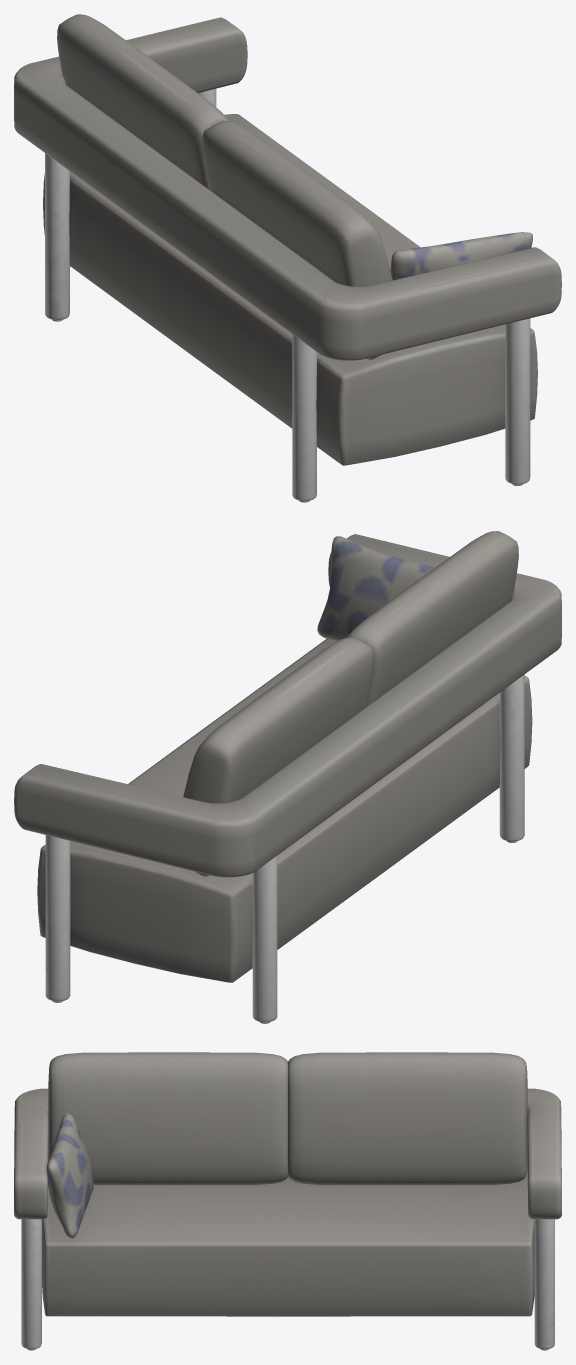
File: EE_Sofa2Seater_01.gltf
The picture shows the model from 3 angles, top to bottom: view 1: azimuth 30°, elevation 25°; view 2: azimuth 150°, elevation 25°; view 3: azimuth 270°, elevation 25°; orthographic projection. The views are drawn at different scales.
Parts seen in each view (by area): view 1: EE_Sofa2Seater_01.001; view 2: EE_Sofa2Seater_01.001; view 3: EE_Sofa2Seater_01.001.
Part boxes in pixels (<box>): EE_Sofa2Seater_01.001: <box>14,14,561,502</box>; EE_Sofa2Seater_01.001: <box>14,531,561,1023</box>; EE_Sofa2Seater_01.001: <box>14,1052,561,1350</box>.
Size of what is drawn, in the model's own units: 0.8171 by 0.9905 by 2.07.
Materials: 2 (2 with a texture image).
